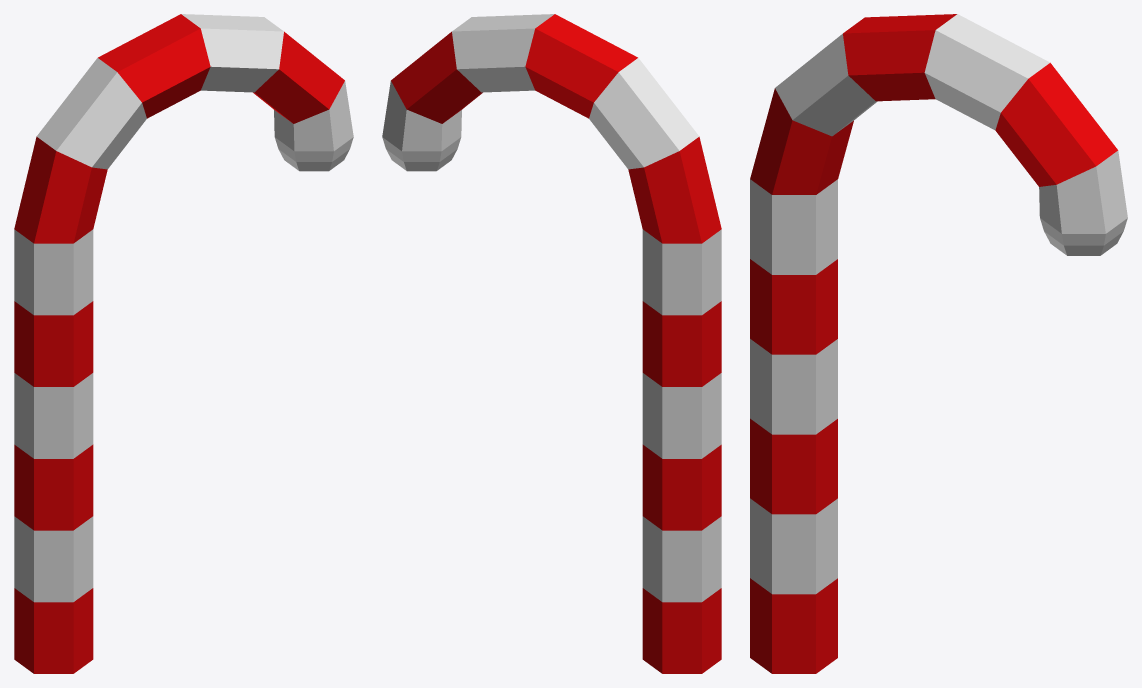
File: Candy Cane.fbx
3 views of the same model, side by side, from view 1: azimuth 30°, elevation 25°; view 2: azimuth 150°, elevation 25°; view 3: azimuth 330°, elevation 25° (orthographic). The views are drawn at different scales.
Parts seen in each view (by area): view 1: Candy Cane; view 2: Candy Cane; view 3: Candy Cane.
Boxes of the visible parts, box(x1,y1,x2,y2) form: Candy Cane: box(14, 14, 353, 673); Candy Cane: box(382, 14, 721, 673); Candy Cane: box(750, 14, 1127, 673).
Size of the model in its own units: 46.66 by 84.33 by 10.
